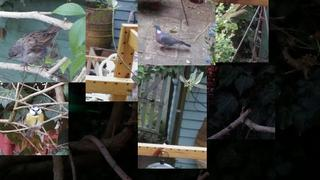blue tit: (24, 105, 44, 137)
dunnock: (6, 24, 62, 73)
wood pigeon: (152, 24, 191, 50)
